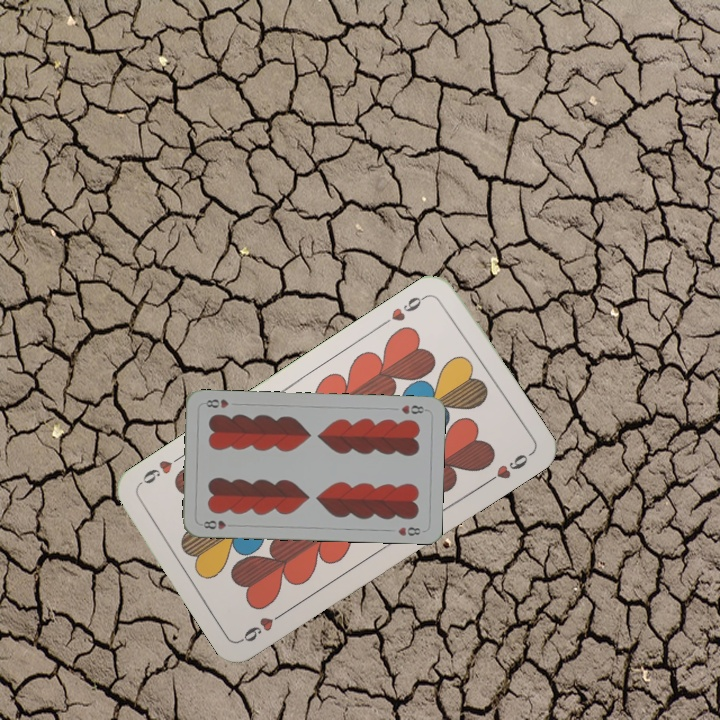H8: (397, 401, 429, 417), (199, 516, 228, 532)
H9: (378, 290, 430, 329), (238, 606, 290, 645)
